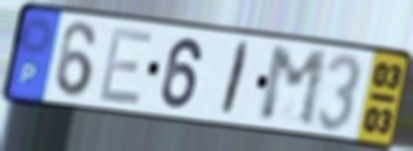3: (314, 49, 366, 137)
6: (52, 19, 100, 102), (159, 34, 204, 112)
E: (95, 25, 157, 108)
I: (217, 38, 254, 120)
M: (257, 45, 330, 131)
